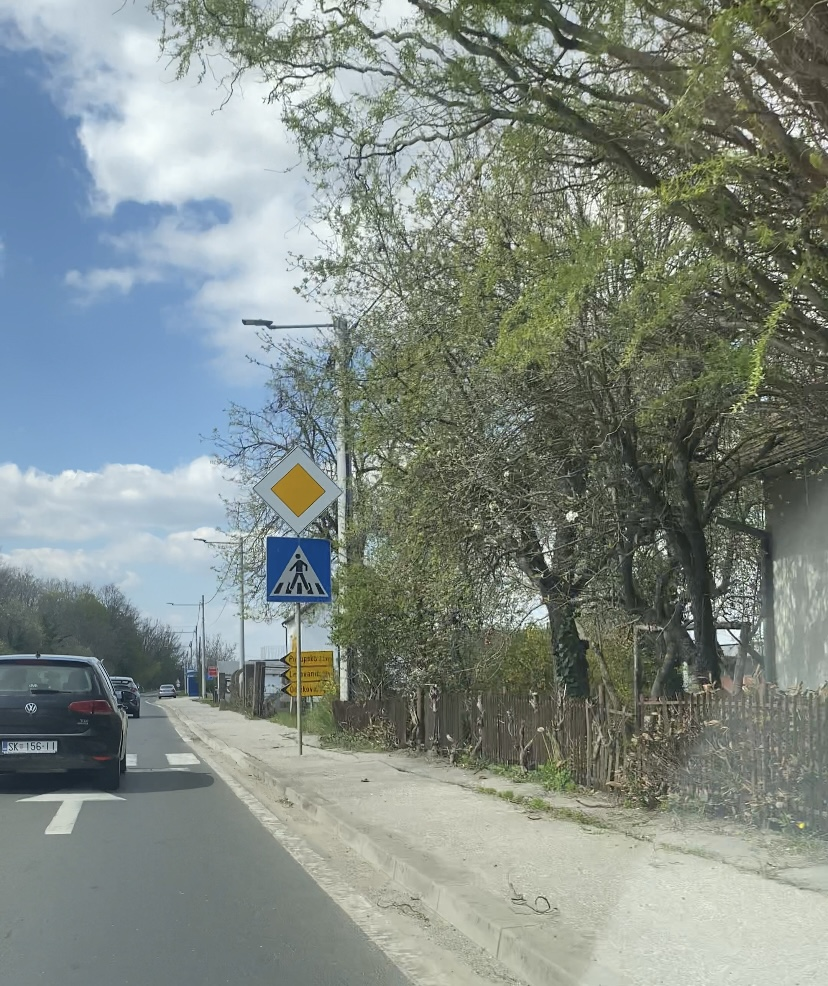Cesta s prednošću prolaska: (253, 446, 343, 535)
Pješački prijelaz: (266, 536, 332, 603)
